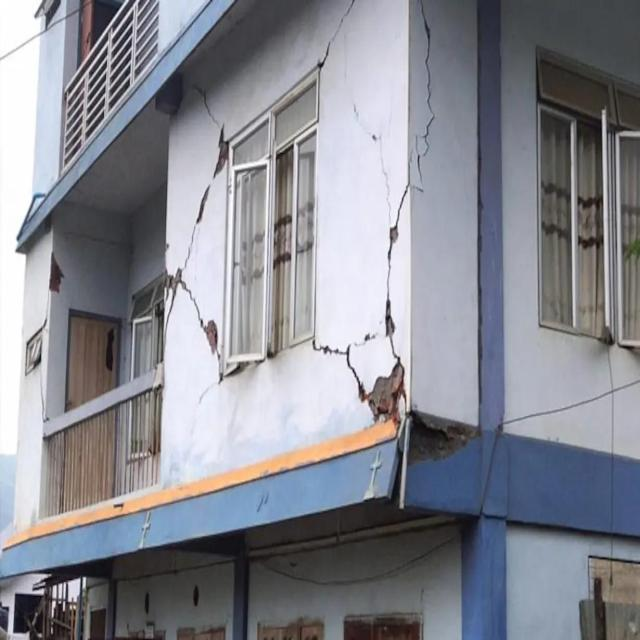damage: (336, 77, 409, 345), (163, 271, 231, 388), (175, 134, 232, 272), (404, 0, 443, 193), (394, 405, 493, 481), (346, 354, 418, 443), (176, 77, 227, 140), (317, 1, 358, 77), (42, 250, 73, 314)
